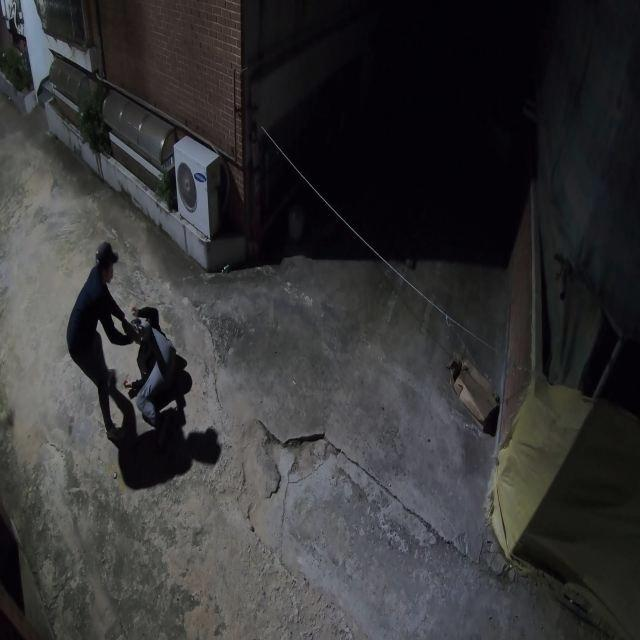fight: (63, 241, 193, 447)
